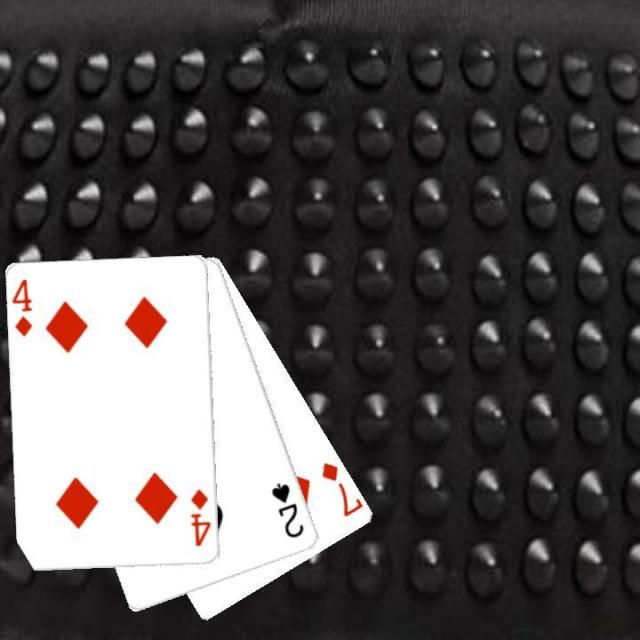2S: (268, 479, 306, 541)
4D: (188, 486, 212, 550), (10, 276, 34, 340)
7D: (318, 458, 364, 519)
